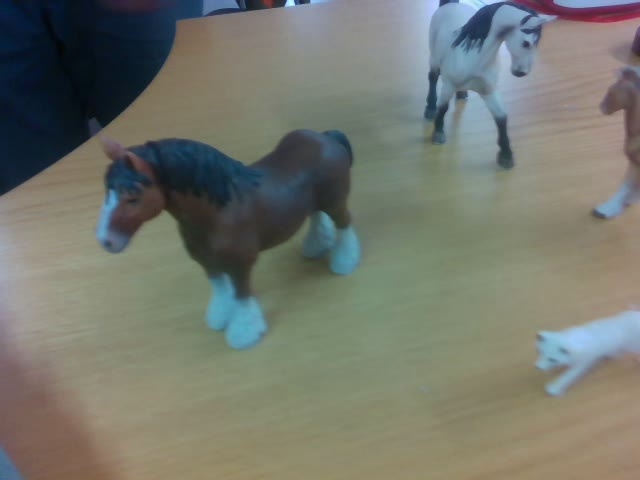toy: (94, 129, 362, 348), (423, 1, 558, 168)
